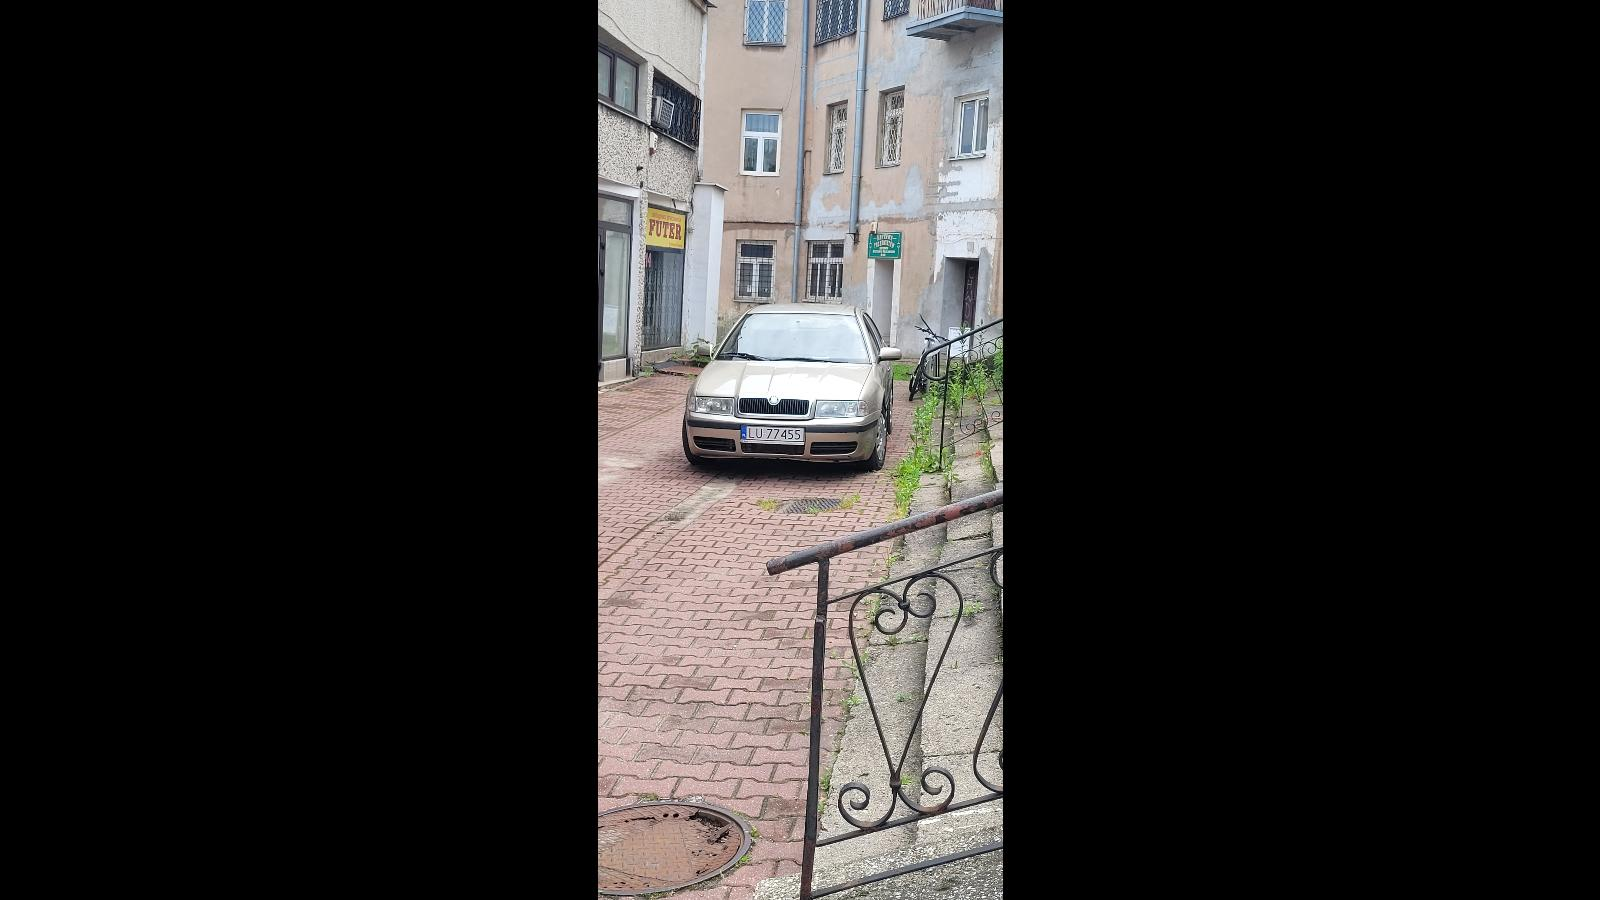plates: (740, 425, 804, 445)
